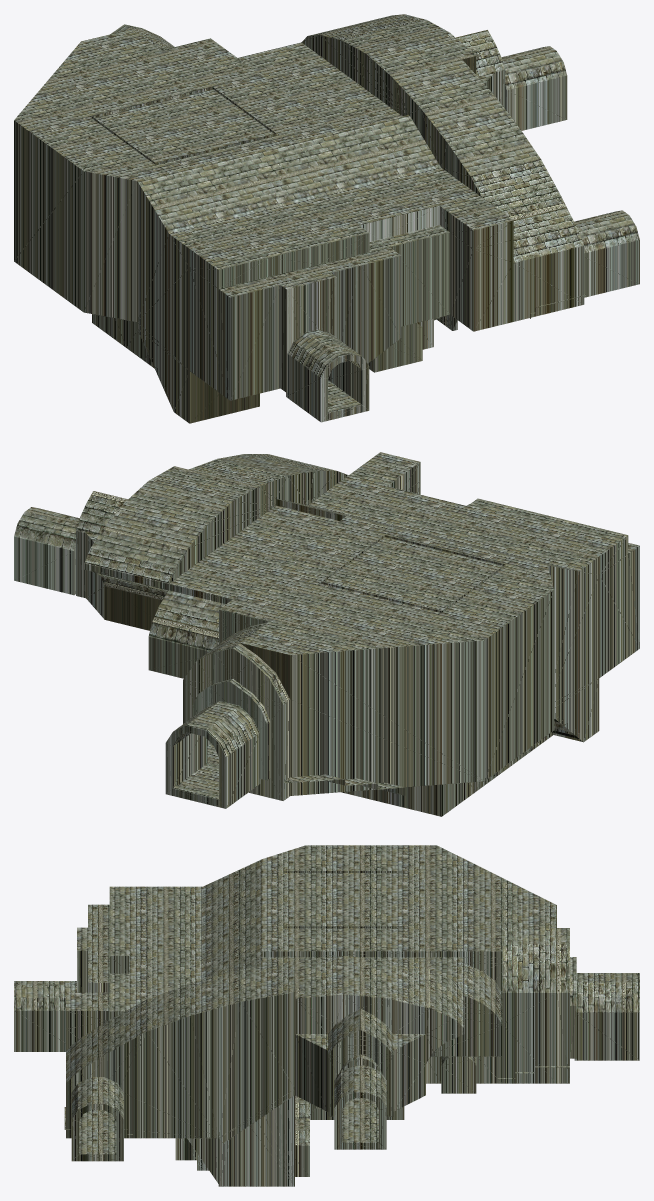
3 views of the same model, one above another, from view 1: azimuth 30°, elevation 25°; view 2: azimuth 150°, elevation 25°; view 3: azimuth 270°, elevation 25° (orthographic). The views are drawn at different scales.
Visible parts, largest first — view 1: test4; view 2: test4; view 3: test4.
Part boxes in pixels (<box>): test4: <box>14,14,639,423</box>; test4: <box>14,452,639,816</box>; test4: <box>14,845,639,1186</box>.
Size of the model in its own units: 24.76 by 11.2 by 28.7.
Materials: 1 (1 with a texture image).
